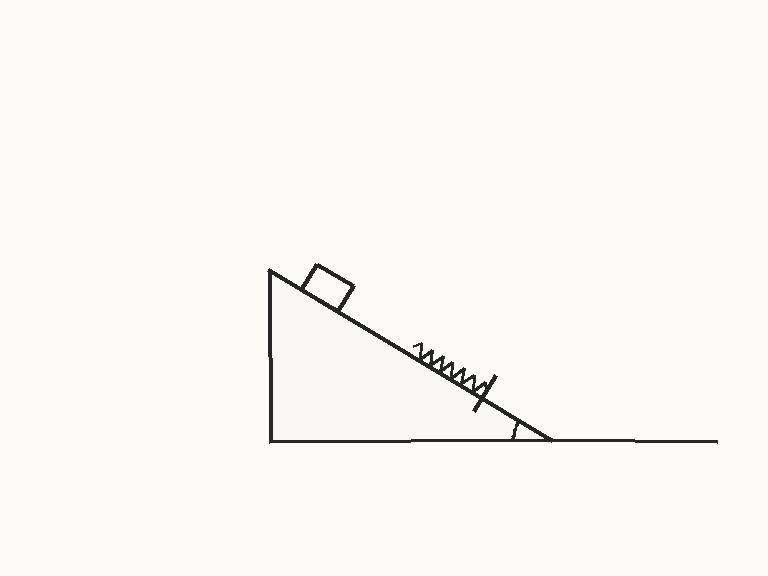block: (300, 262, 355, 313)
ramp: (266, 268, 555, 443)
spring: (411, 341, 488, 393)
